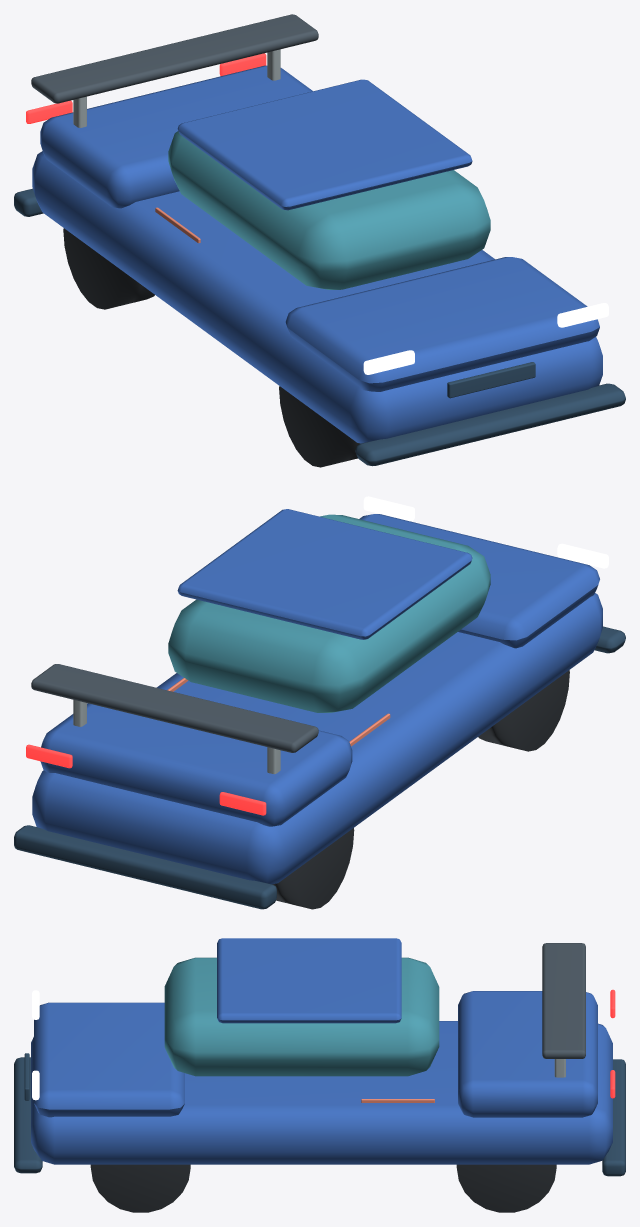
File: HL_Car_SprintGT.fbx
3 views of the same model, one above another, from view 1: azimuth 30°, elevation 25°; view 2: azimuth 150°, elevation 25°; view 3: azimuth 270°, elevation 25° (orthographic). The views are drawn at different scales.
Visible parts, largest first — view 1: Sports | low chassis, Sports | aerodynamic nose, Sports | cockpit glass, Sports | low roof, Sports | rear deck, Sports | floating rear wing, Sports | broad front splitter, Sports | slick tyre.001, Sports | slick tyre, Sports | center grille, Sports | swept headlamp, Sports | swept headlamp.001 (+2 smaller); view 2: Sports | low chassis, Sports | cockpit glass, Sports | low roof, Sports | rear deck, Sports | aerodynamic nose, Sports | floating rear wing, Sports | rear diffuser, Sports | slick tyre, Sports | slick tyre.001, Sports | swept headlamp.001, Sports | swept headlamp, Sports | tail ribbon (+2 smaller); view 3: Sports | low chassis, Sports | cockpit glass, Sports | low roof, Sports | aerodynamic nose, Sports | rear deck, Sports | floating rear wing, Sports | slick tyre.002, Sports | slick tyre.003, Sports | broad front splitter, Sports | rear diffuser.
Part boxes in pixels (box(x1,y1,x2,y2)): Sports | low chassis: box(32, 151, 602, 443); Sports | aerodynamic nose: box(285, 257, 599, 391); Sports | cockpit glass: box(168, 131, 490, 289); Sports | low roof: box(177, 79, 472, 210); Sports | rear deck: box(40, 65, 312, 208); Sports | floating rear wing: box(31, 14, 318, 103); Sports | broad front splitter: box(355, 383, 625, 466); Sports | slick tyre.001: box(63, 228, 154, 309); Sports | slick tyre: box(279, 386, 360, 467); Sports | center grille: box(447, 362, 535, 398); Sports | swept headlamp: box(363, 350, 414, 374); Sports | swept headlamp.001: box(557, 303, 608, 327); Sports | low chassis: box(32, 593, 602, 884); Sports | cockpit glass: box(168, 514, 490, 712); Sports | low roof: box(177, 509, 472, 639); Sports | rear deck: box(40, 703, 352, 826); Sports | aerodynamic nose: box(359, 514, 599, 648); Sports | floating rear wing: box(31, 664, 318, 752); Sports | rear diffuser: box(14, 825, 276, 909); Sports | slick tyre: box(478, 670, 569, 751); Sports | slick tyre.001: box(272, 828, 354, 909); Sports | swept headlamp.001: box(363, 496, 414, 521); Sports | swept headlamp: box(557, 543, 608, 568); Sports | tail ribbon: box(219, 792, 266, 815); Sports | low chassis: box(31, 1021, 612, 1164); Sports | cockpit glass: box(164, 957, 439, 1076); Sports | low roof: box(217, 938, 401, 1023); Sports | aerodynamic nose: box(34, 1002, 184, 1117); Sports | rear deck: box(458, 991, 597, 1117); Sports | floating rear wing: box(542, 943, 585, 1058); Sports | slick tyre.002: box(90, 1164, 190, 1212); Sports | slick tyre.003: box(456, 1164, 556, 1212); Sports | broad front splitter: box(14, 1057, 42, 1173); Sports | rear diffuser: box(602, 1059, 625, 1176).
Size of the model in its own units: 208 by 167 by 490.
